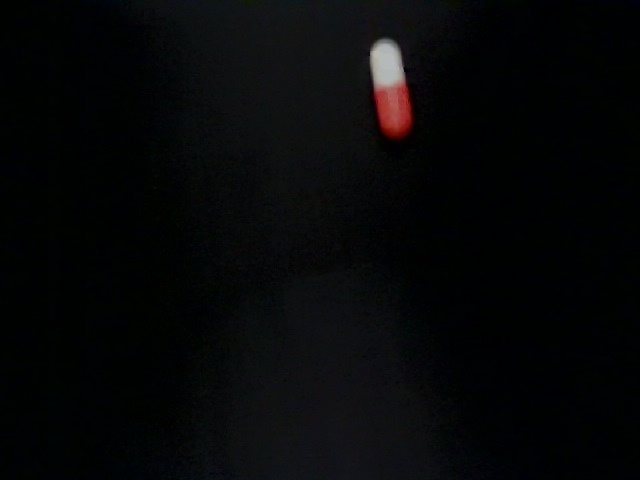YHLJ: (275, 291, 366, 368)
